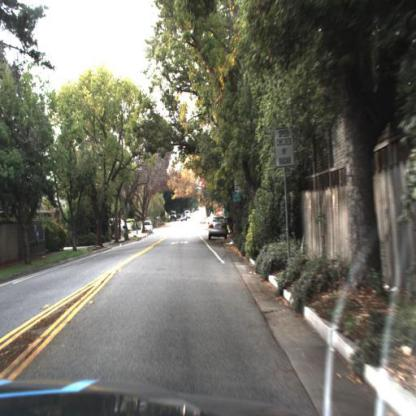car: (208, 213, 230, 242), (207, 214, 230, 241)
pedestrian: (136, 221, 140, 235)
